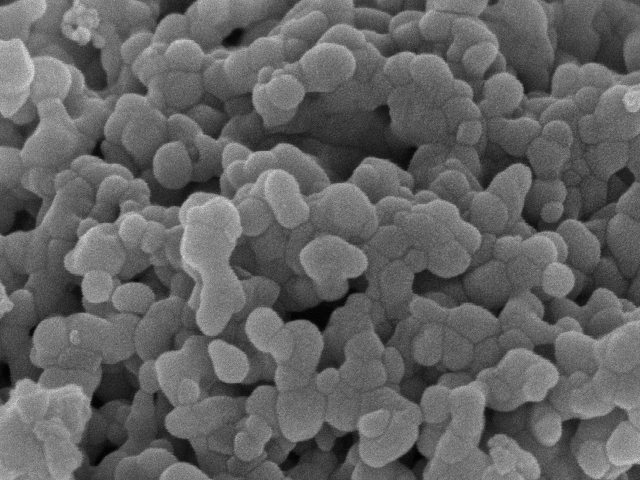nano: (174, 378, 200, 404), (68, 329, 83, 346)
